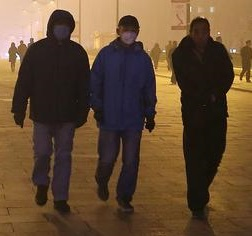person: (10, 8, 92, 214), (91, 14, 158, 213), (171, 15, 236, 218)
